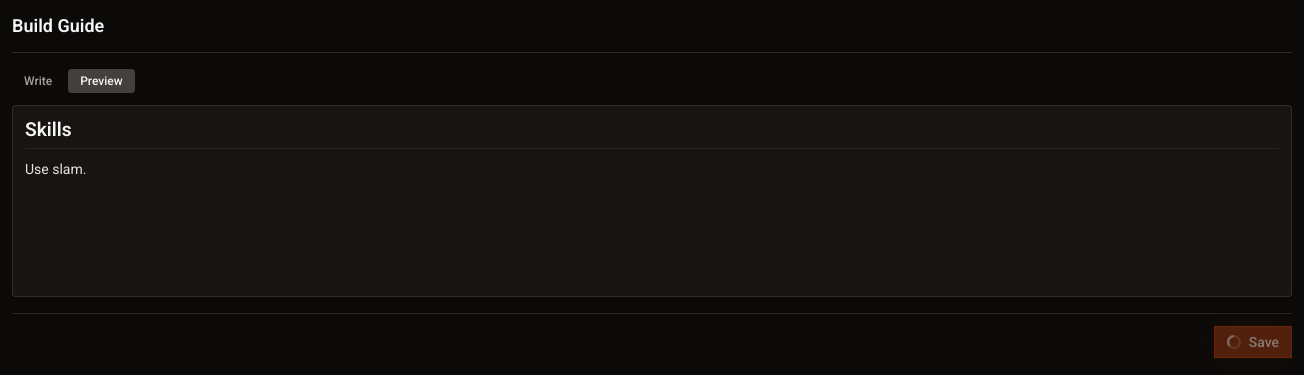
Test case: NoteEditor › loading state › disables all inputs when isLoading is true
Click the button "Write" at coordinates (38, 81), box [12, 69, 64, 93]
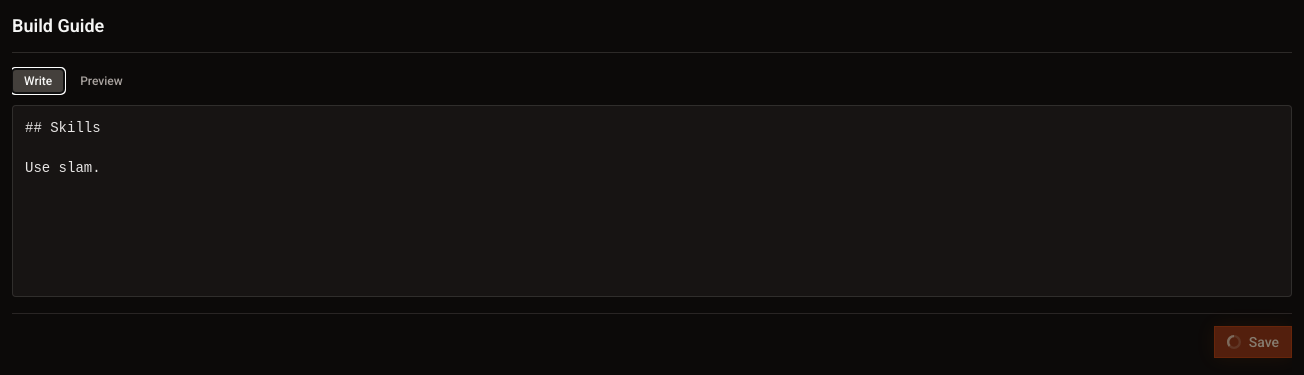
Expected: the field with placeholder "Note title..." is disabled, [12, 12, 1292, 53]
Result: the text box with placeholder "Write your note in markdown..." is disabled at [12, 105, 1292, 297]
